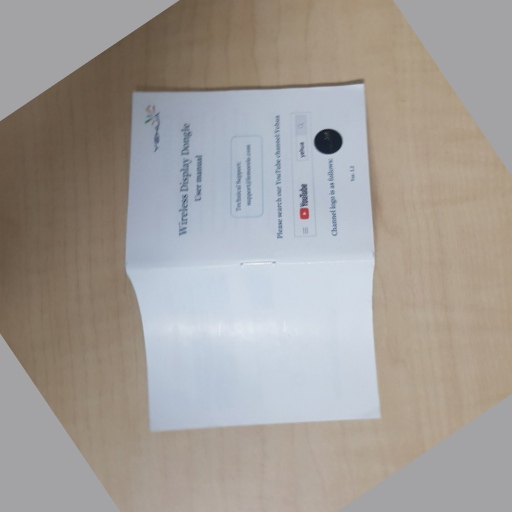Paper_0: (125, 85, 398, 436)
